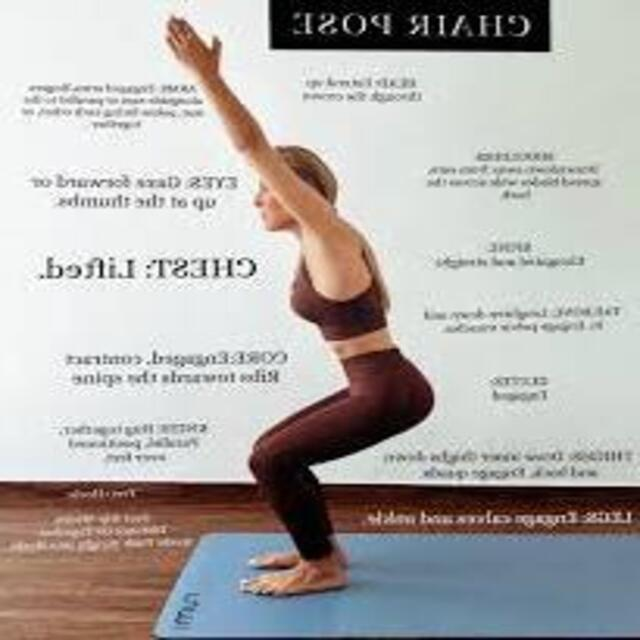Squat_Pose: (162, 16, 440, 596)
